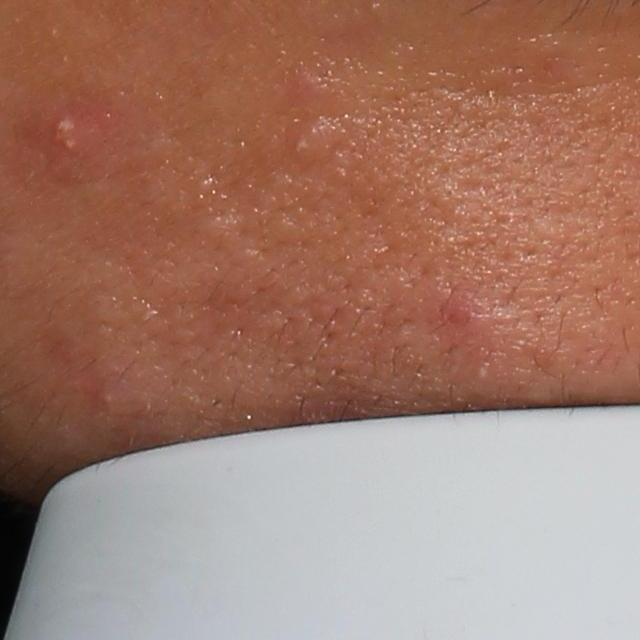hypertrophic_scar: (193, 208, 275, 277)
papule: (284, 63, 329, 109), (436, 287, 481, 333)
pustule: (43, 110, 108, 172)
